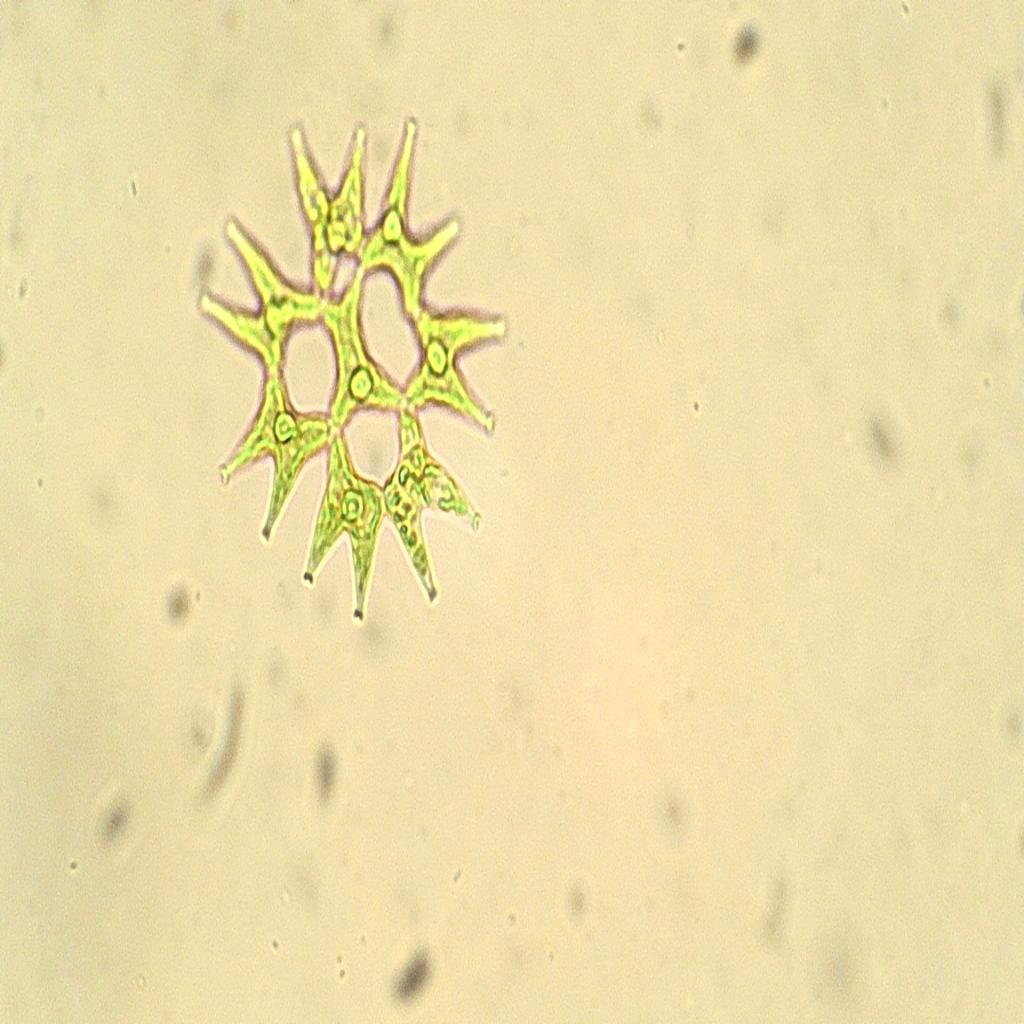Pediastrum_1T: (194, 96, 517, 640)
